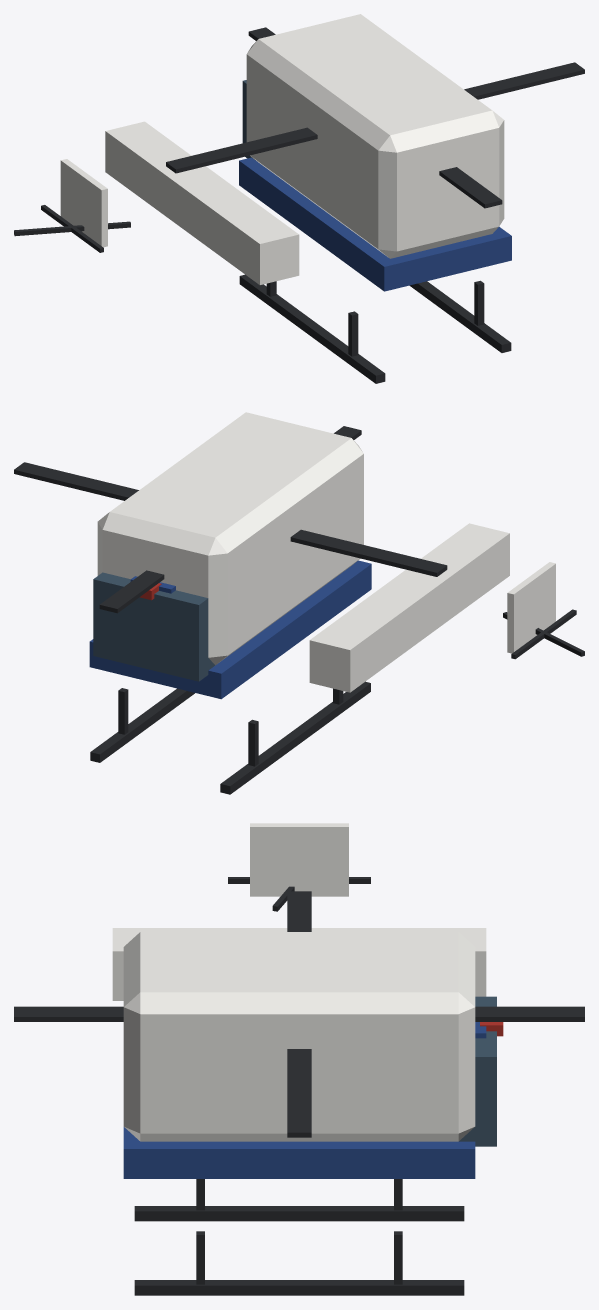
File: vehicle.police-helicopter.glb
The picture shows the model from 3 angles, top to bottom: view 1: azimuth 30°, elevation 25°; view 2: azimuth 150°, elevation 25°; view 3: azimuth 270°, elevation 25°; orthographic projection. The views are drawn at different scales.
Visible parts, largest first — view 1: vehicle.police-helicopter; view 2: vehicle.police-helicopter; view 3: vehicle.police-helicopter.
Boxes of the visible parts, x1,y1,x2,y2 form: vehicle.police-helicopter: (14, 14, 584, 383); vehicle.police-helicopter: (14, 412, 584, 794); vehicle.police-helicopter: (14, 823, 584, 1295).
Bounding box in the file's own units: 7.07 × 2.95 × 5.2.
